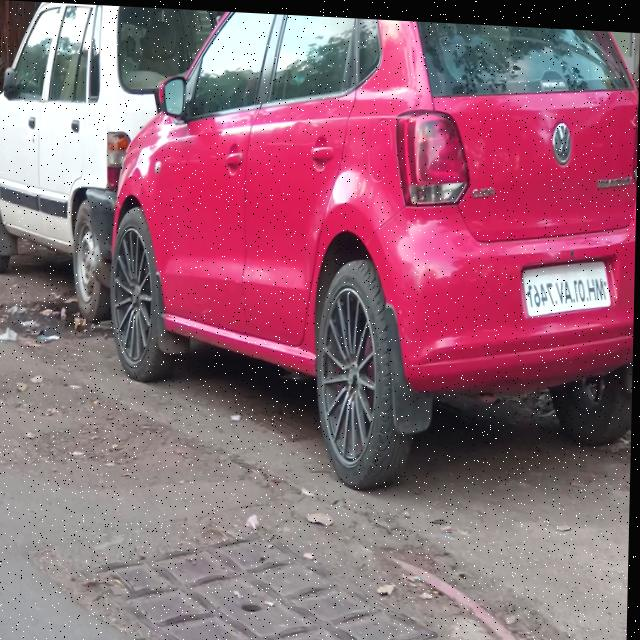plate: (522, 249, 614, 316)
